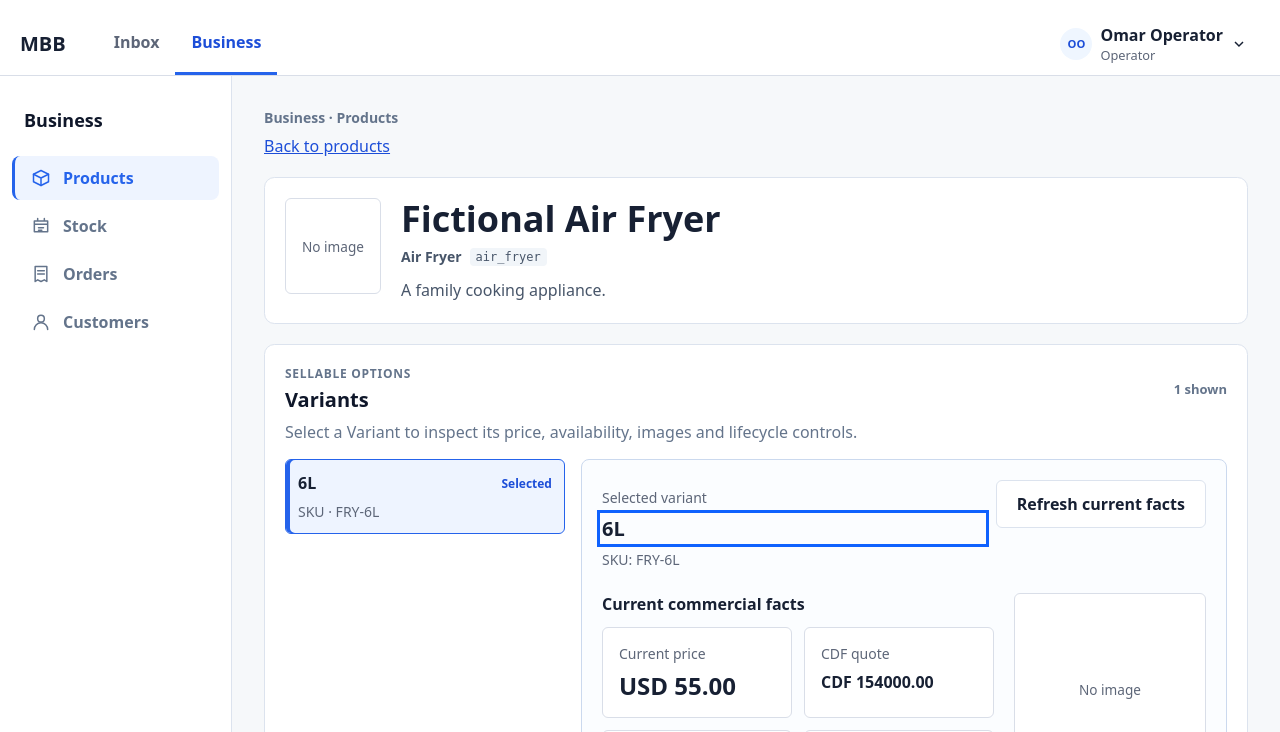
Test: shared Business Products › shows unavailable without inventing facts
This screenshot has width=1280, height=732.
Click the button with aria-label "6L · FRY-6L" at (527, 483), box [285, 459, 565, 534]
(page scrolled)
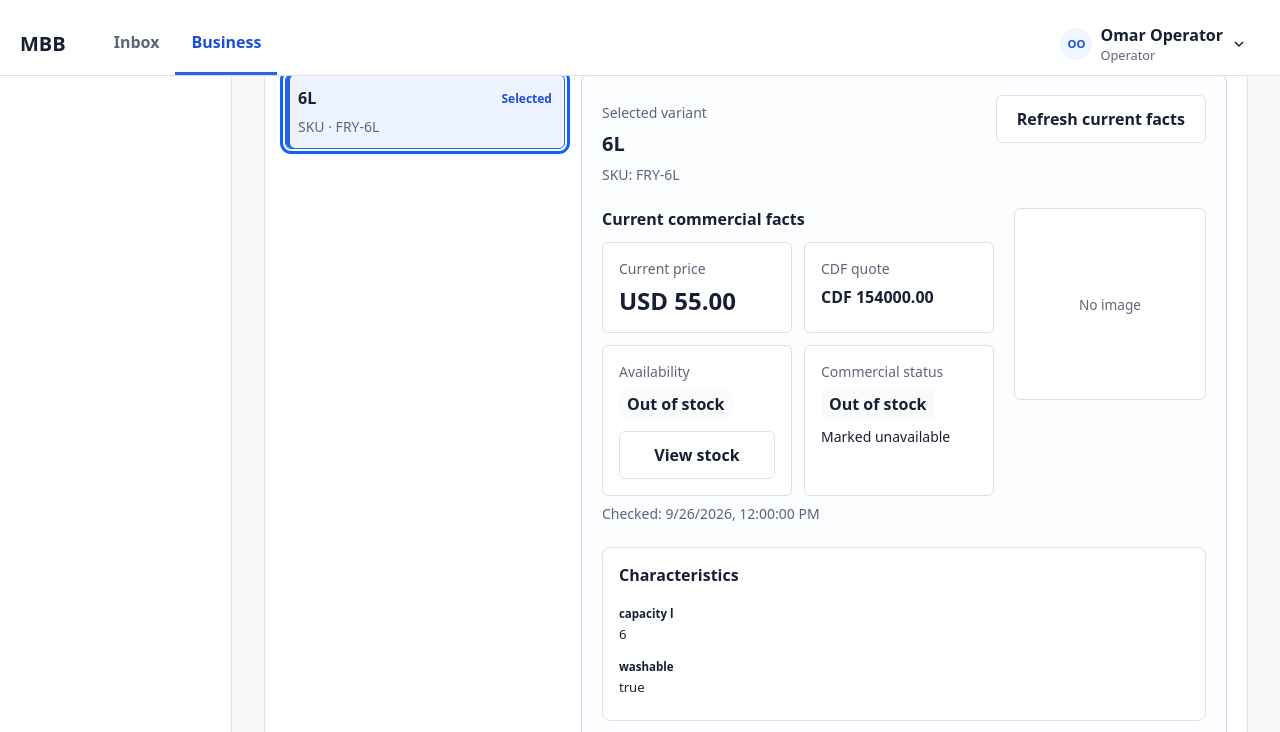
expect the heading "6L" is shown: met, box [602, 130, 625, 157]
expect the text "Out of stock" below "Availability" is shown: met, box [627, 393, 725, 415]
